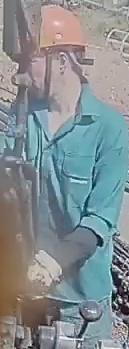gloves: (23, 247, 70, 296)
helmet: (38, 4, 88, 52)
vest: (26, 106, 129, 301)
